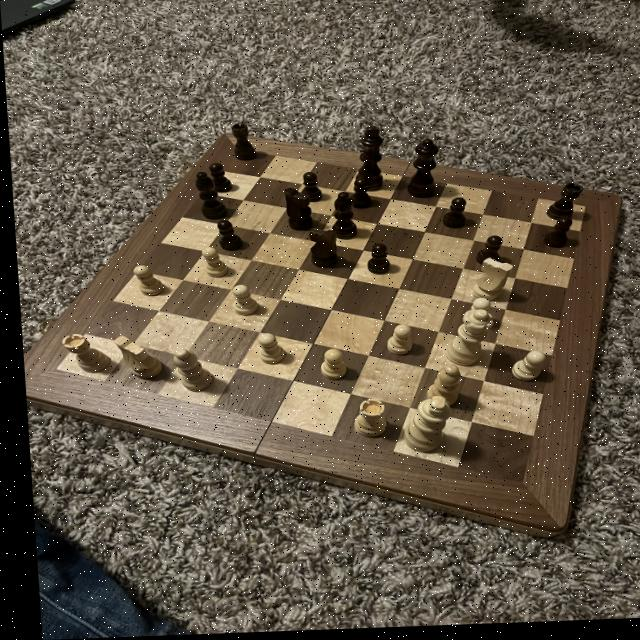bishop: (189, 171, 229, 224), (541, 185, 587, 227), (325, 192, 355, 246), (226, 122, 256, 166)
black-bishop: (345, 129, 390, 198)
black-king: (276, 187, 314, 234), (301, 230, 338, 277)
black-knight: (433, 199, 472, 234), (467, 238, 504, 272), (539, 219, 573, 253), (342, 179, 374, 214), (212, 220, 243, 254), (361, 244, 390, 280), (203, 163, 234, 196), (296, 171, 324, 206)
black-pawn: (399, 139, 445, 205)
black-rook: (414, 366, 461, 414), (165, 348, 210, 397)
white-bishop: (392, 399, 450, 459)
white-king: (109, 334, 164, 384), (462, 260, 514, 308)
white-knight: (125, 263, 163, 299), (504, 351, 542, 387), (224, 281, 259, 319), (311, 348, 347, 383), (251, 333, 285, 369), (378, 326, 413, 359), (195, 248, 225, 281), (465, 299, 489, 323)
white-pawn: (436, 310, 493, 373)
white-queen: (55, 331, 107, 378), (344, 400, 385, 443)
